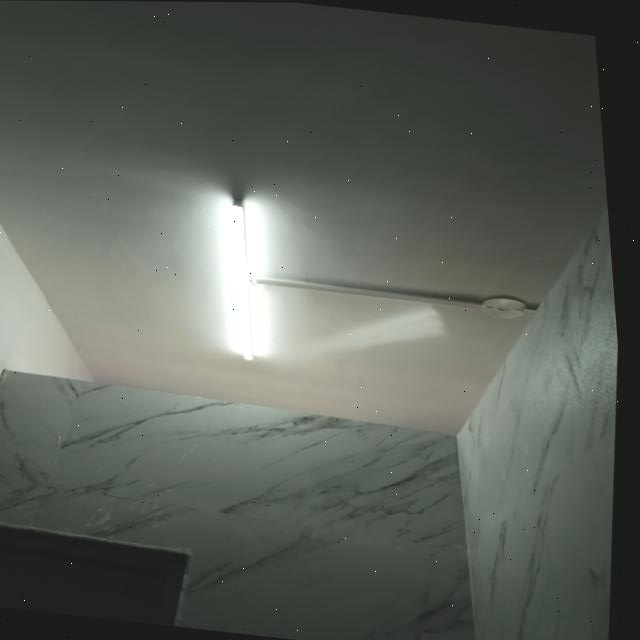fluorescent tube: (212, 194, 281, 366)
